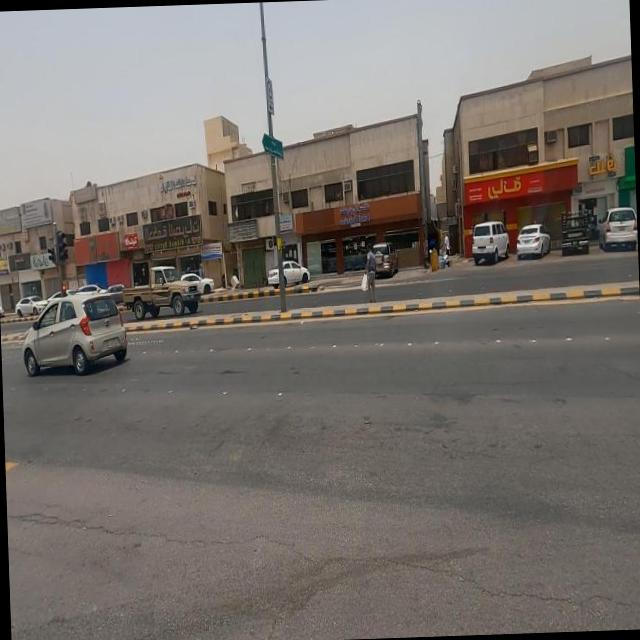debris: (54, 200, 142, 282), (205, 197, 282, 266), (218, 257, 250, 308), (429, 244, 458, 278), (418, 230, 445, 264)
